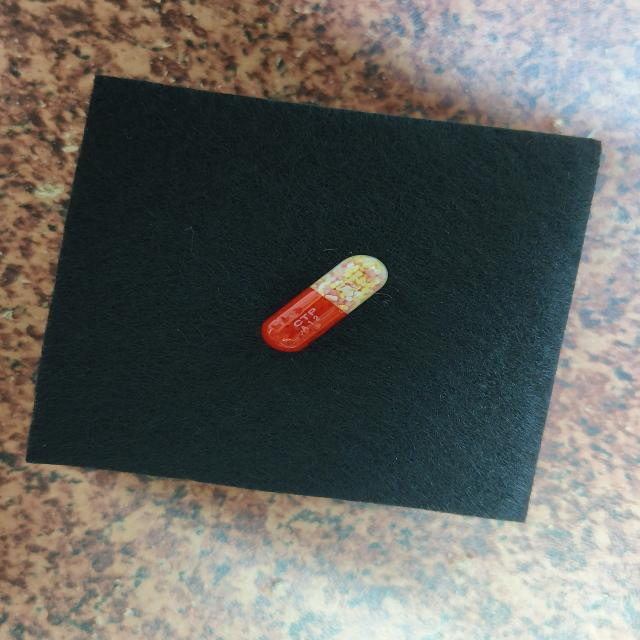Intact Capsule: (261, 254, 388, 352)
